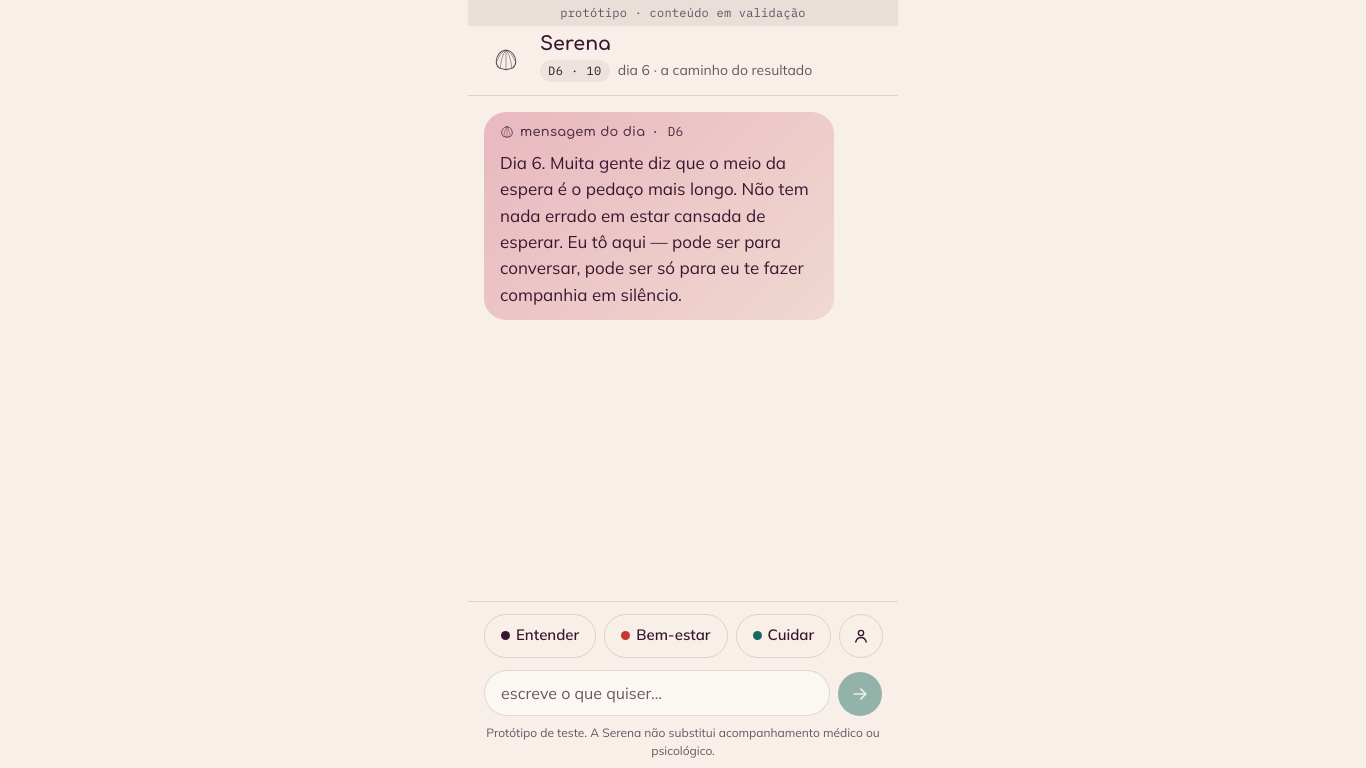
Test: Chat (Degrau B) › "agora não" colapsa em resumo de dispensa
The image size is (1366, 768).
Click the button "Cuidar". click: (783, 636)
box: 736,614 -> 831,658
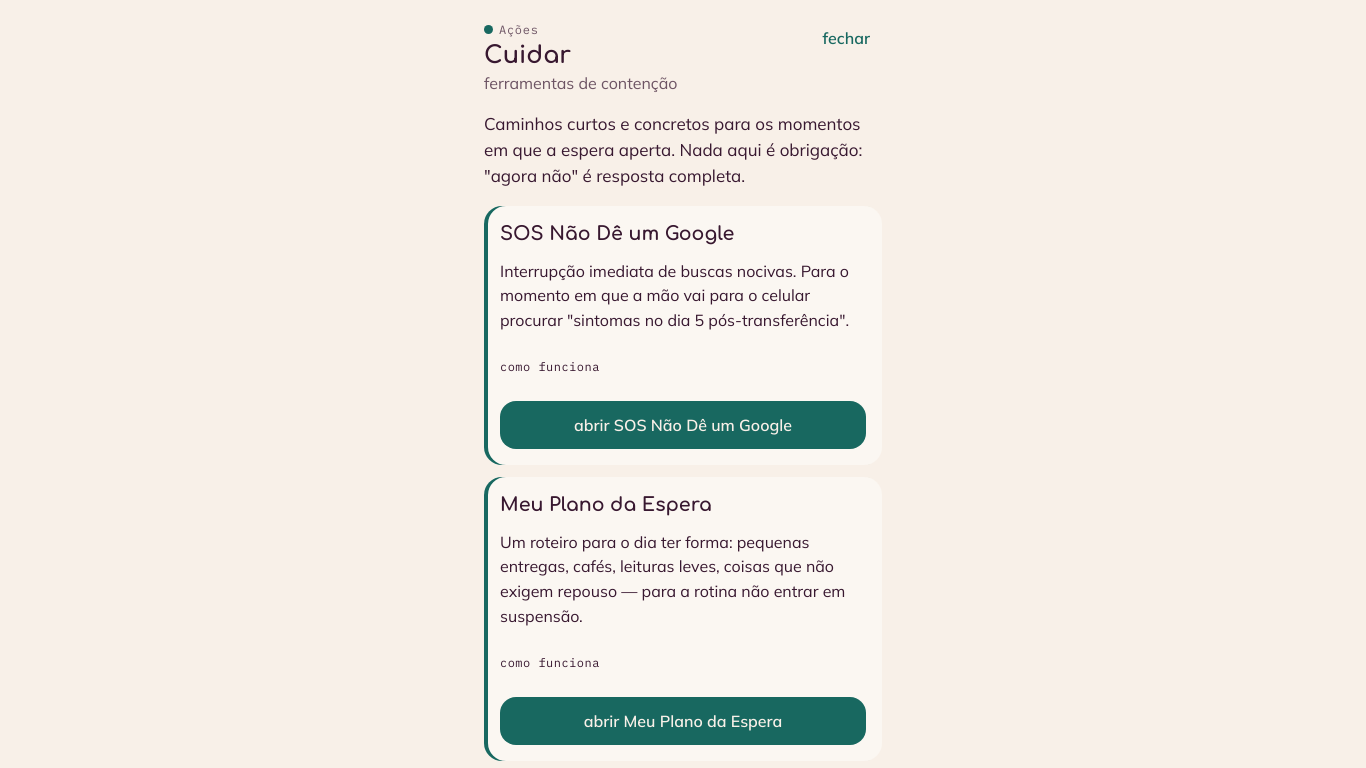
Click the button "abrir SOS Não Dê um Google". click: (683, 425)
box: 500,401 -> 866,449
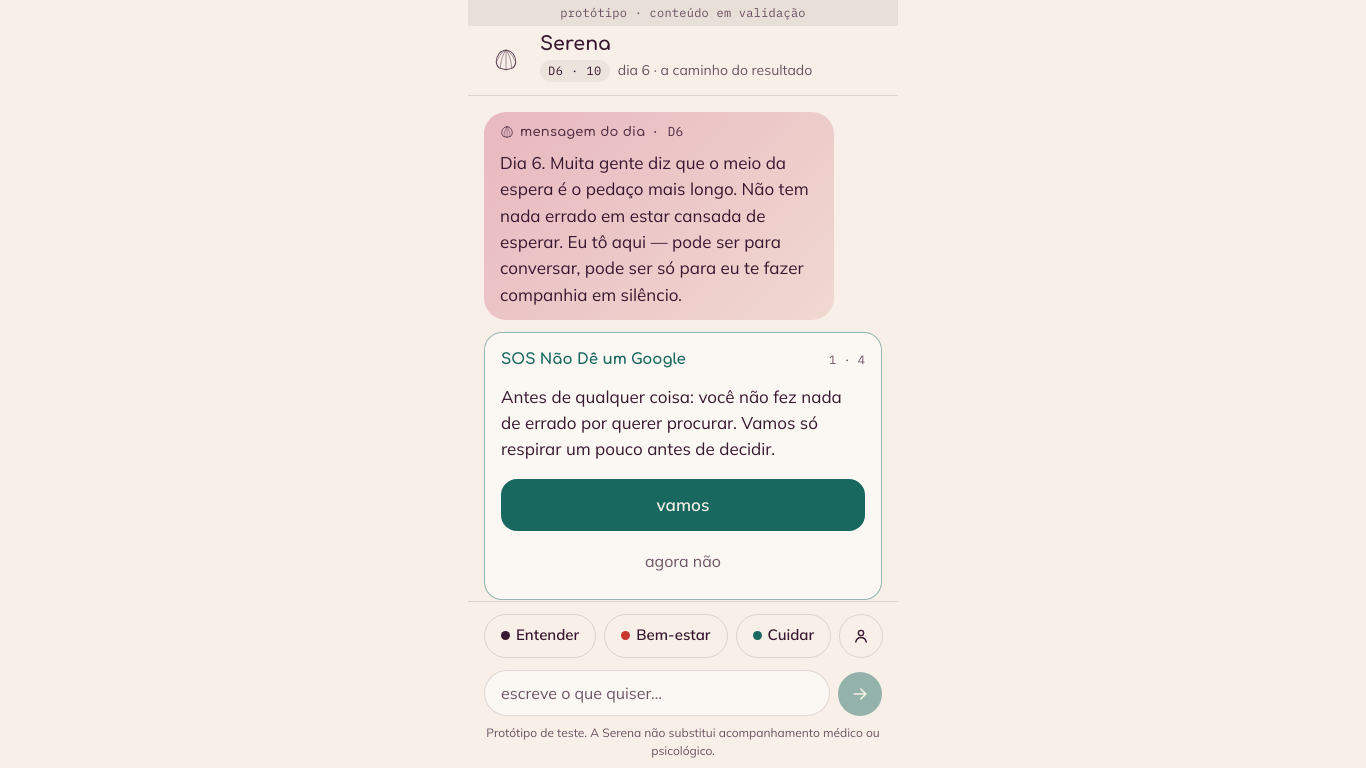
Click the button "agora não". click: (683, 561)
box: 501,539 -> 865,583
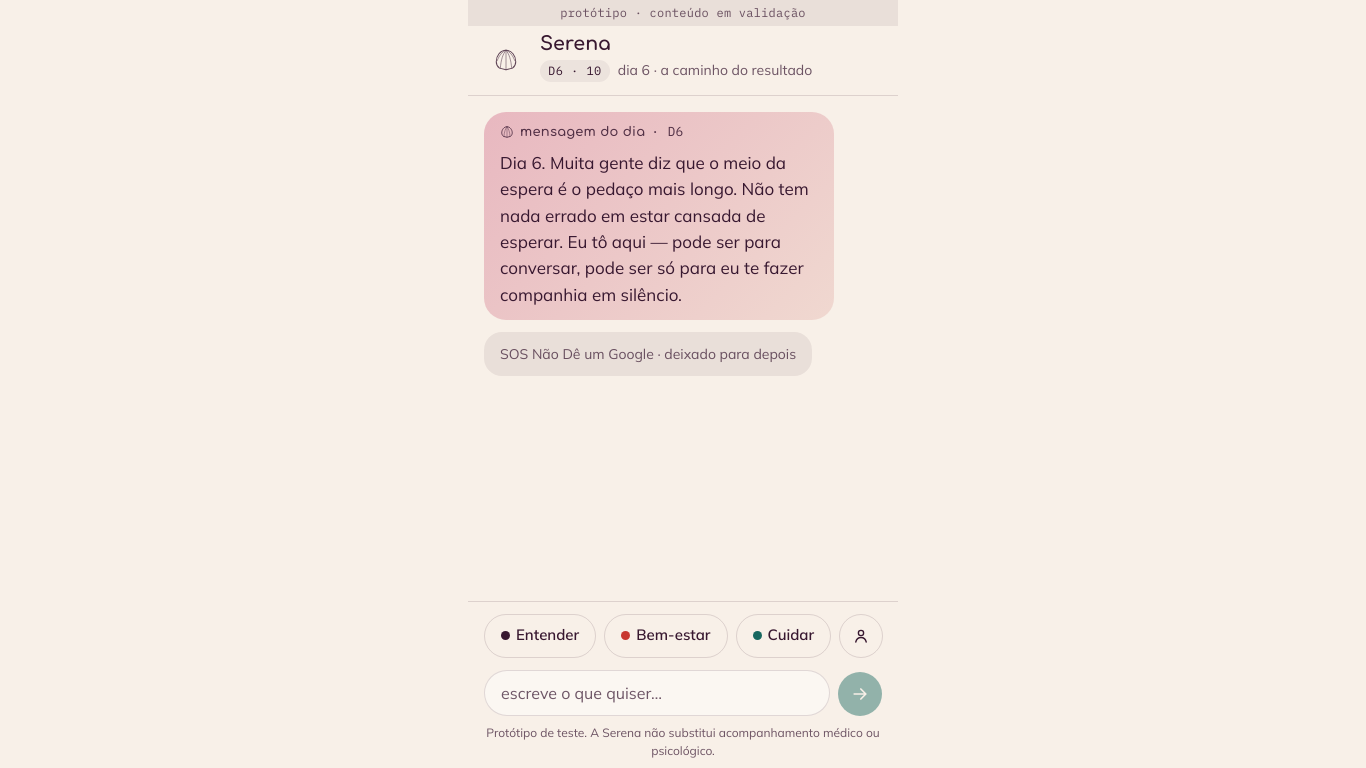
Now the text "SOS Não Dê um Google · deixado para depois" is shown, box 500,344 -> 796,364
